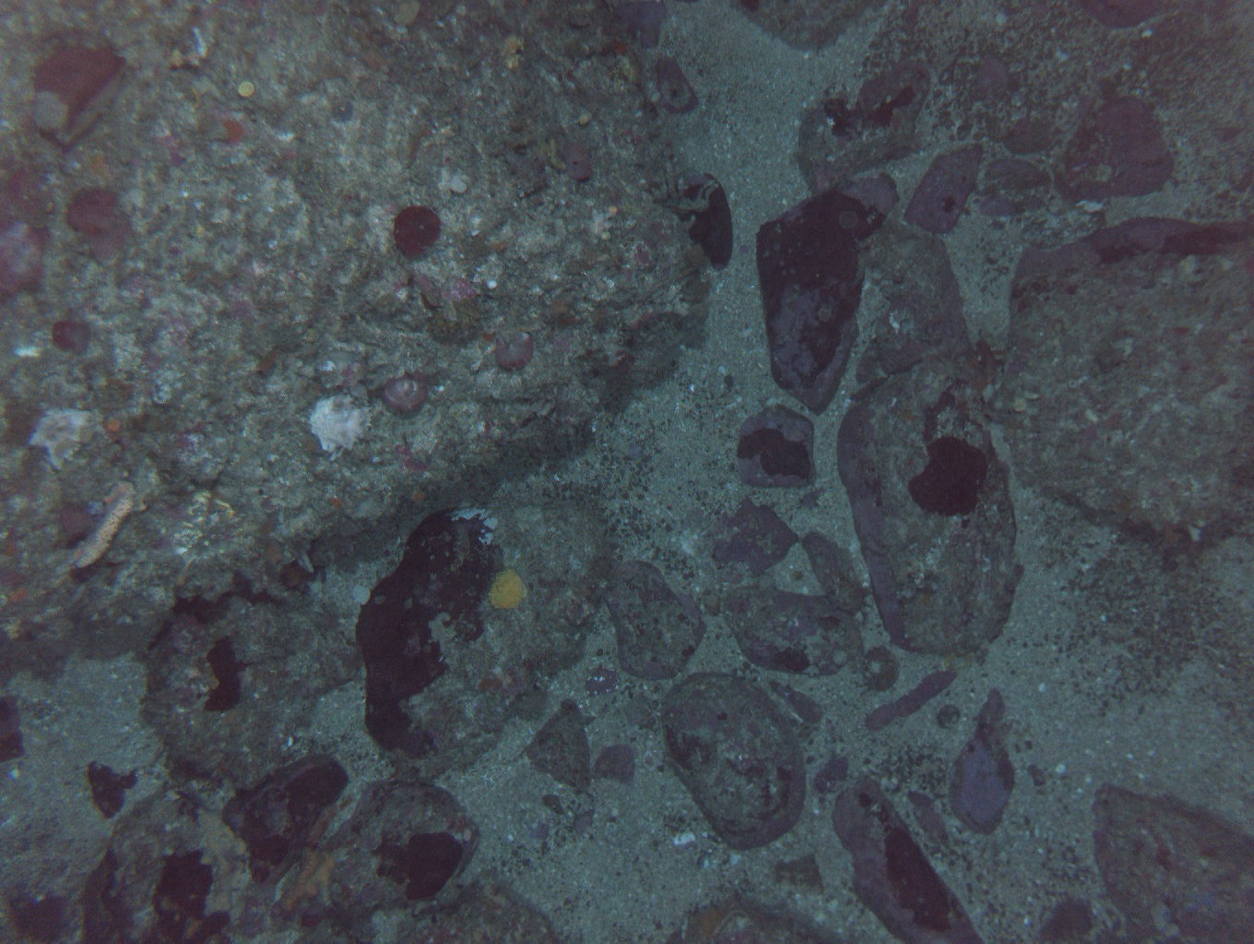Brachionichthyidae: (968, 337, 1010, 393)
